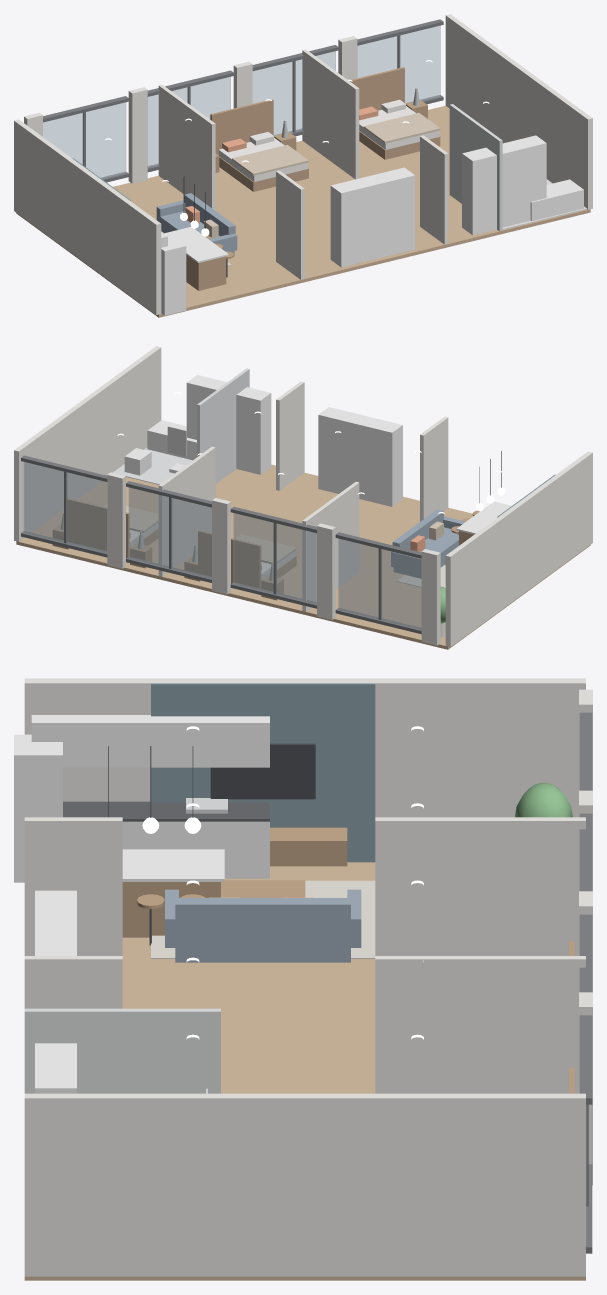
The model's file is msk-flat-3.glb.
The picture shows the model from 3 angles, top to bottom: view 1: azimuth 30°, elevation 25°; view 2: azimuth 150°, elevation 25°; view 3: azimuth 270°, elevation 25°; orthographic projection. The views are drawn at different scales.
Bounding box in the file's own units: 14.16 × 2.9 × 8.25.
